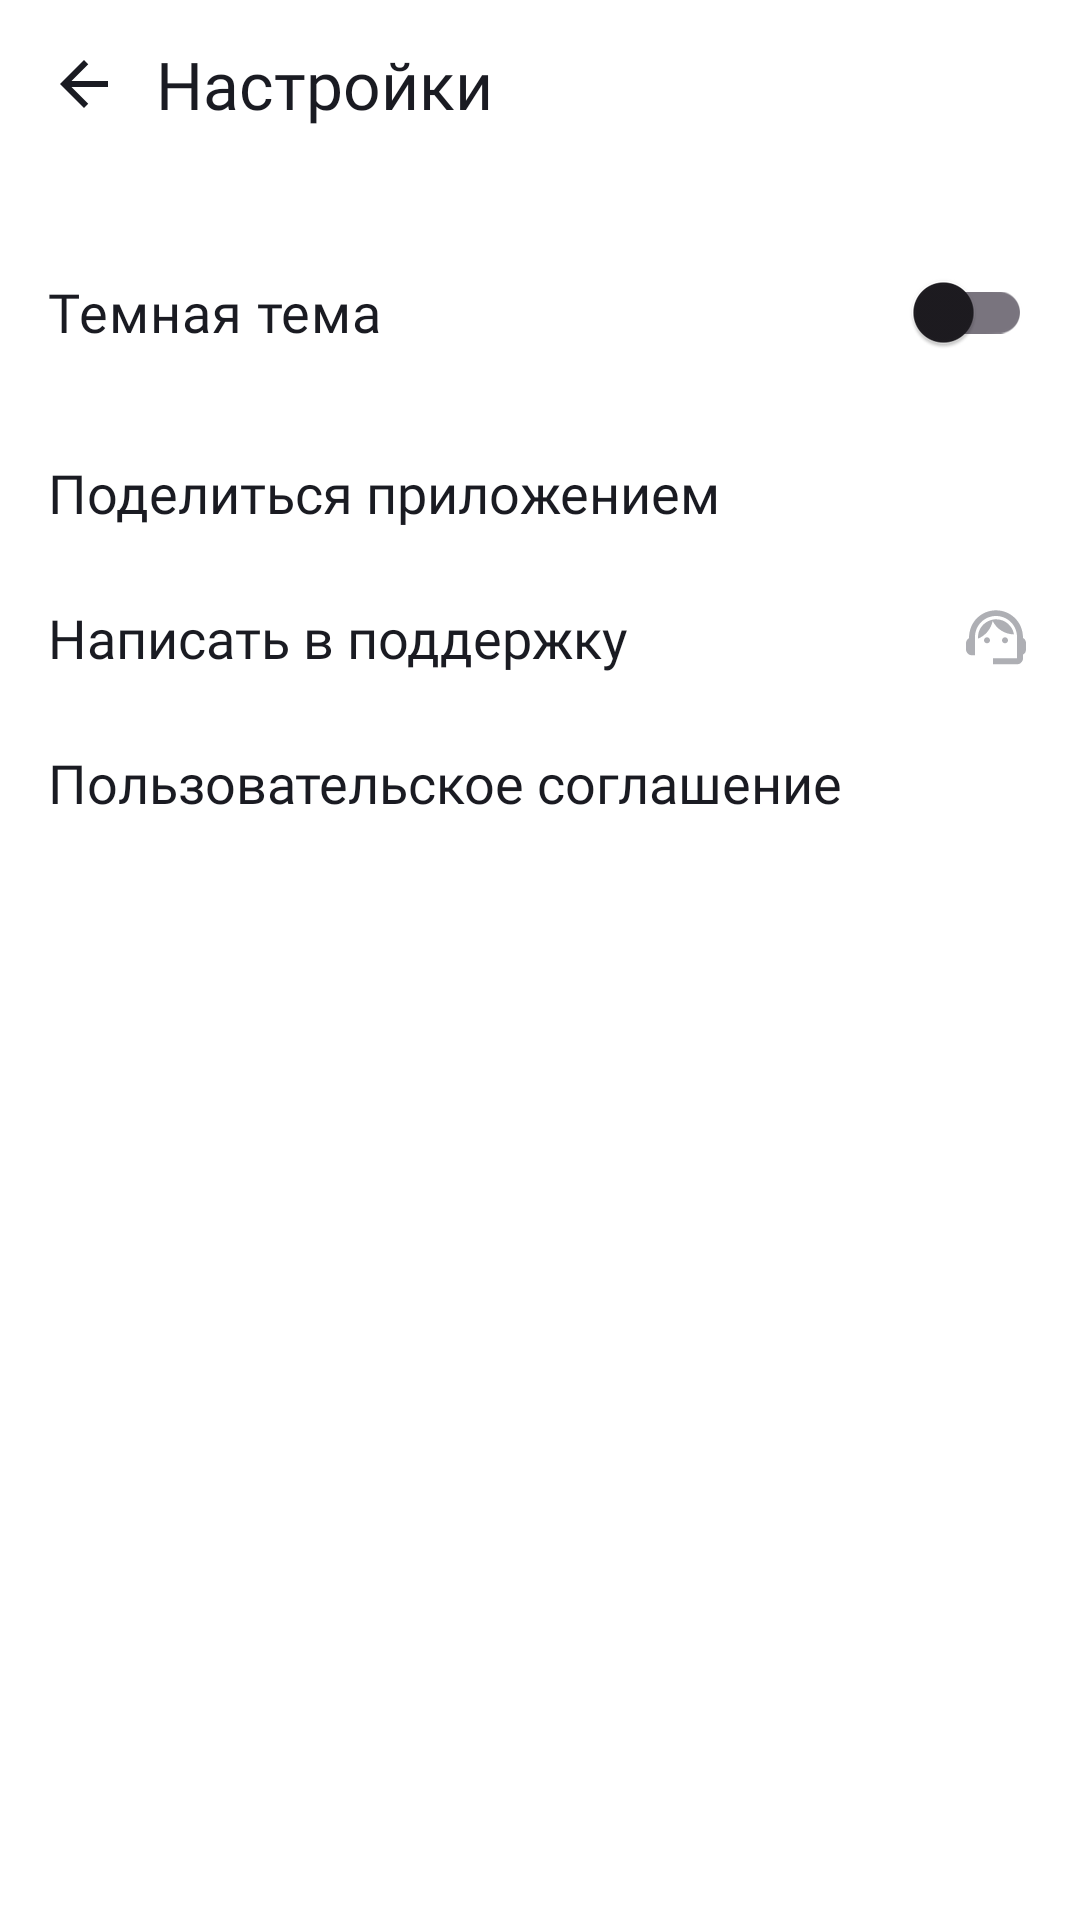

Where icons sit on this 1080×1920 app screen, as (x1, y1, x2, y2):
arrow back: (60, 60, 108, 108)
support: (966, 610, 1026, 664)
